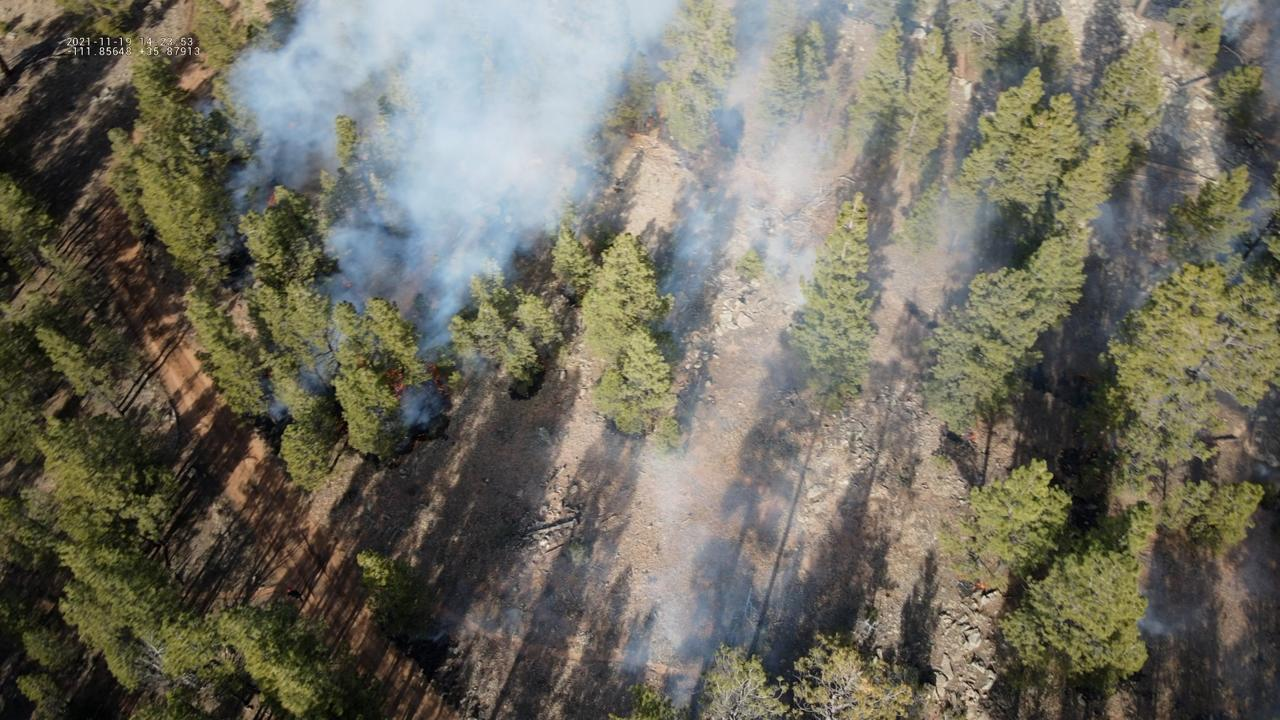fire: (382, 363, 405, 403), (424, 361, 447, 395), (265, 190, 280, 208), (974, 580, 990, 591), (645, 120, 653, 129), (629, 131, 633, 136)
smoke: (191, 0, 1022, 433), (618, 449, 786, 720), (1083, 173, 1280, 339), (1214, 0, 1280, 45), (1137, 614, 1170, 639)
